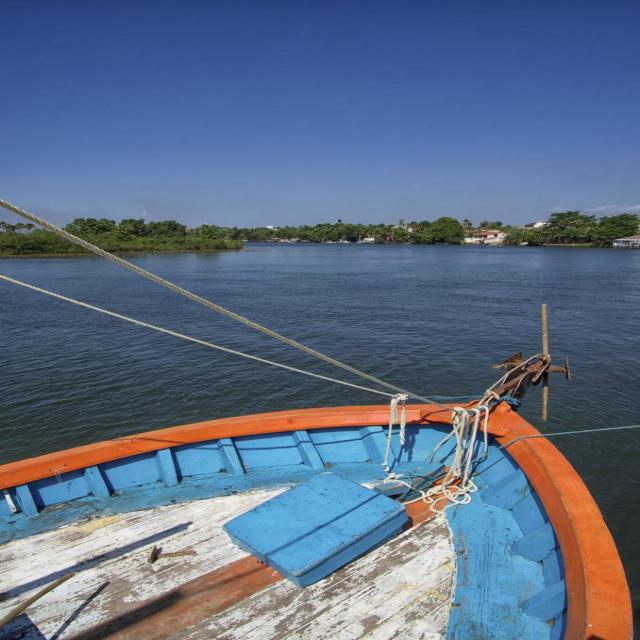Boat: (32, 277, 640, 608)
